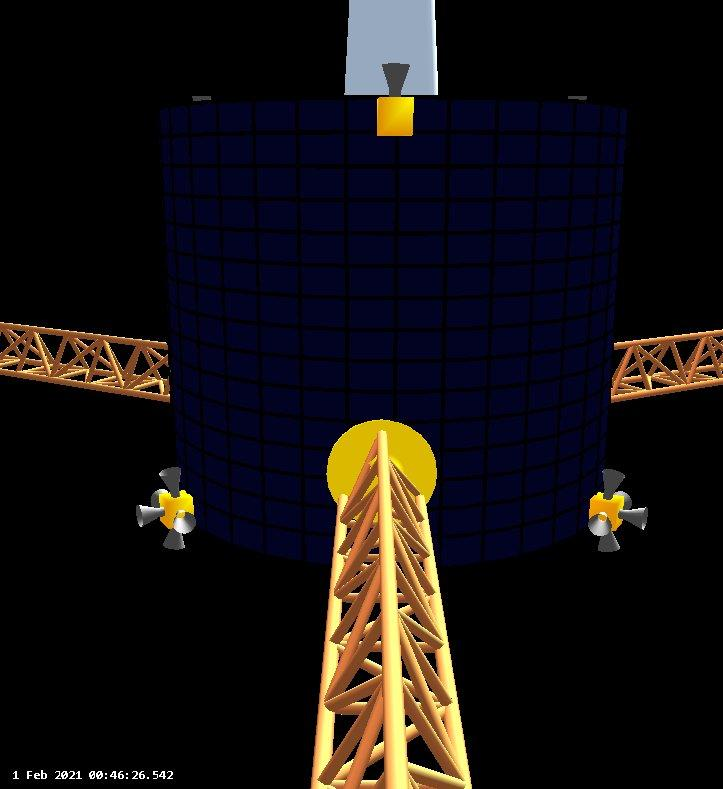antenna: (309, 417, 477, 789), (0, 316, 176, 403), (346, 0, 441, 100), (606, 329, 723, 407)
body: (157, 94, 633, 568)
thruster: (378, 61, 412, 101), (600, 464, 629, 505), (156, 463, 184, 505), (614, 502, 653, 530), (134, 502, 167, 530), (585, 510, 615, 540), (159, 523, 187, 552), (172, 508, 198, 537), (597, 526, 623, 554), (608, 488, 638, 510), (148, 486, 173, 510)
